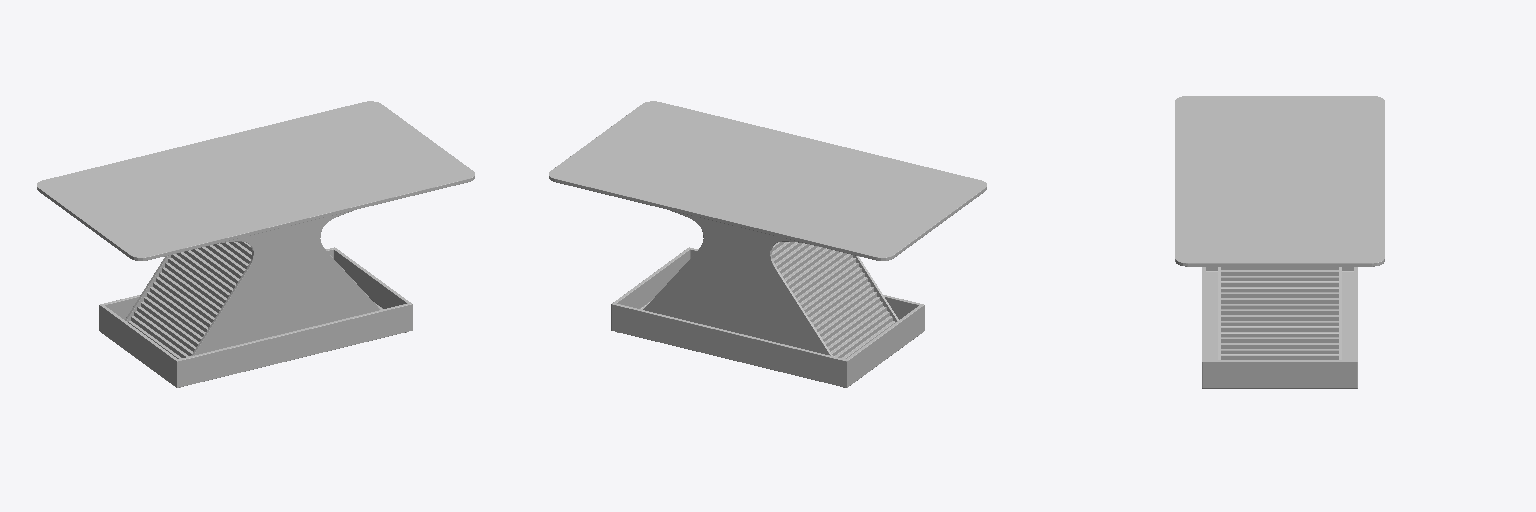
Rendered from table1.obj.
3 views of the same model, side by side, from view 1: azimuth 30°, elevation 25°; view 2: azimuth 150°, elevation 25°; view 3: azimuth 270°, elevation 25° (orthographic).
Parts seen in each view (by area): view 1: 10ravens_3D_M_004_Modern_table_01; view 2: 10ravens_3D_M_004_Modern_table_01; view 3: 10ravens_3D_M_004_Modern_table_01.
Boxes of the visible parts, x1,y1,x2,y2 form: 10ravens_3D_M_004_Modern_table_01: [37, 101, 474, 387]; 10ravens_3D_M_004_Modern_table_01: [549, 101, 986, 387]; 10ravens_3D_M_004_Modern_table_01: [1175, 96, 1384, 388].
Bounding box in the file's own units: 102 × 43.4 × 54.